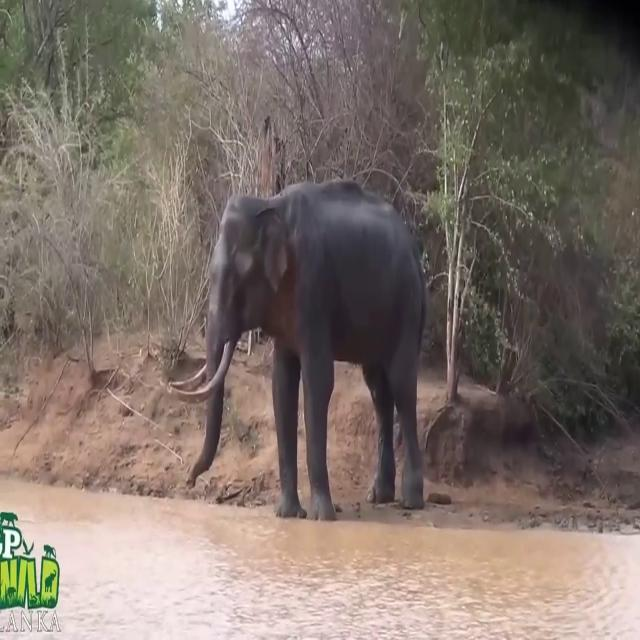Elephant: (168, 177, 427, 521)
